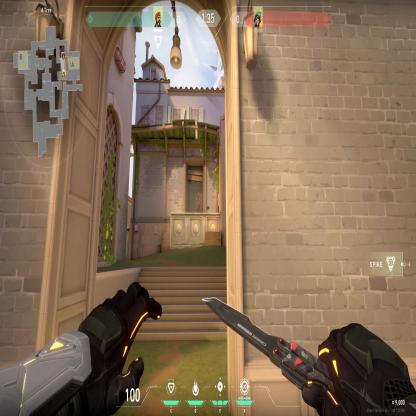enemy: (196, 191, 201, 214)
